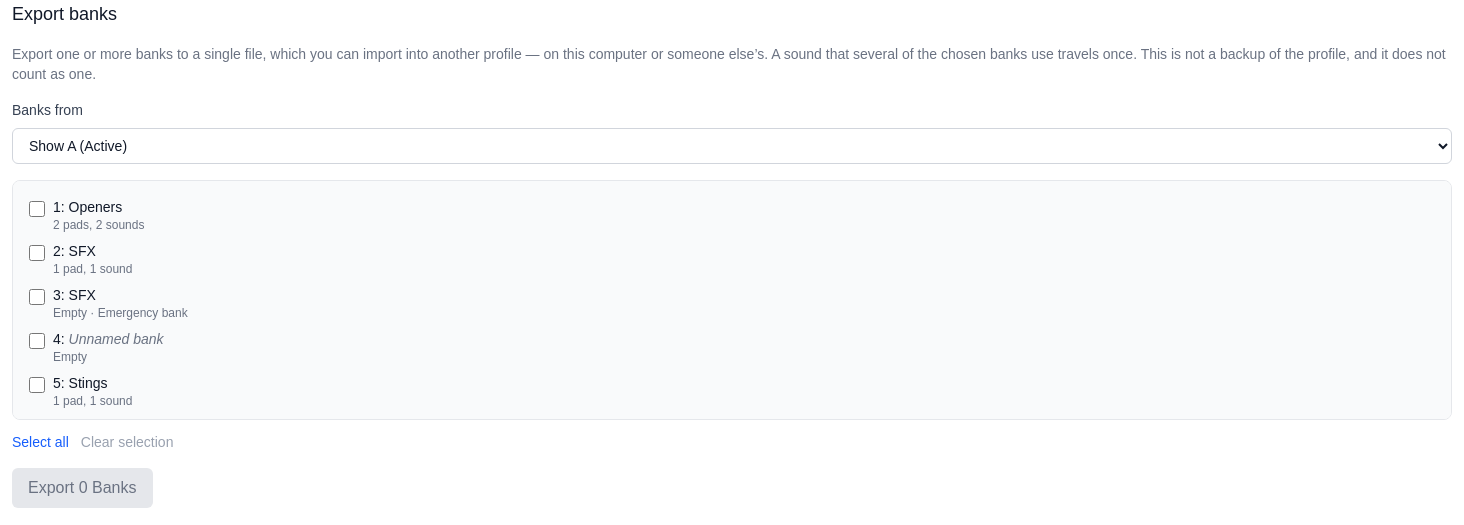
Test: exporting › keeps the selection when the save dialog was cancelled
The width and height of the screenshot is (1464, 525).
Click the checkbox with test id "export-bank-checkbox" at point(37, 209), box x1=29 y1=201 x2=45 y2=217
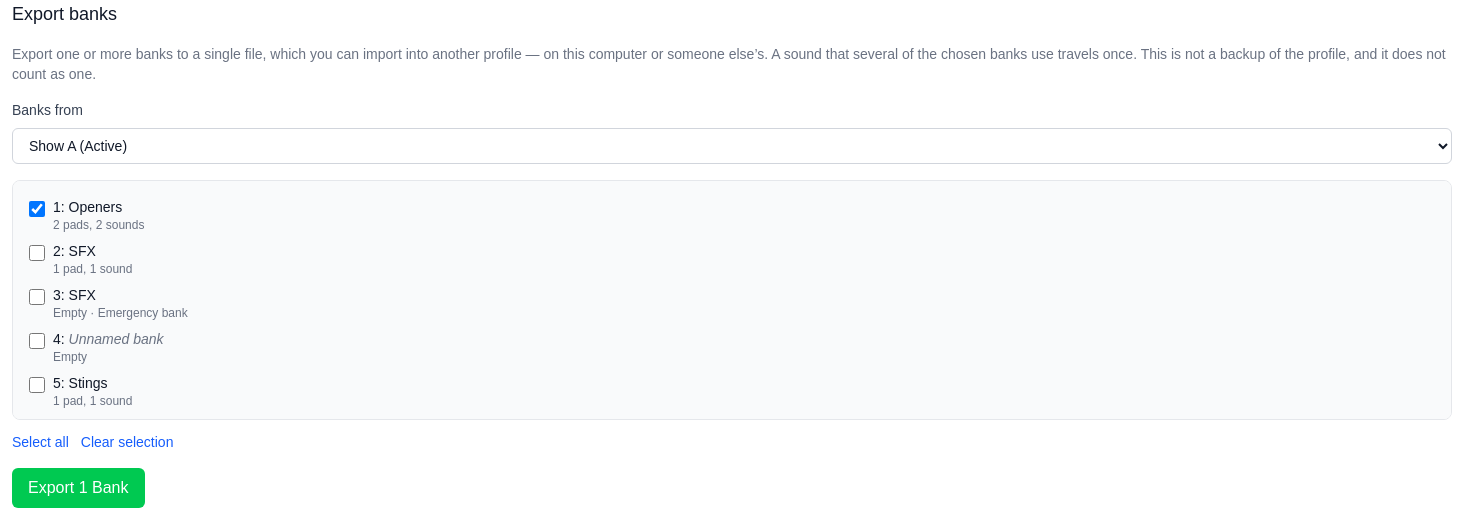
Expected: the button "Export 1 Bank" is shown, x1=12 y1=468 x2=144 y2=508
